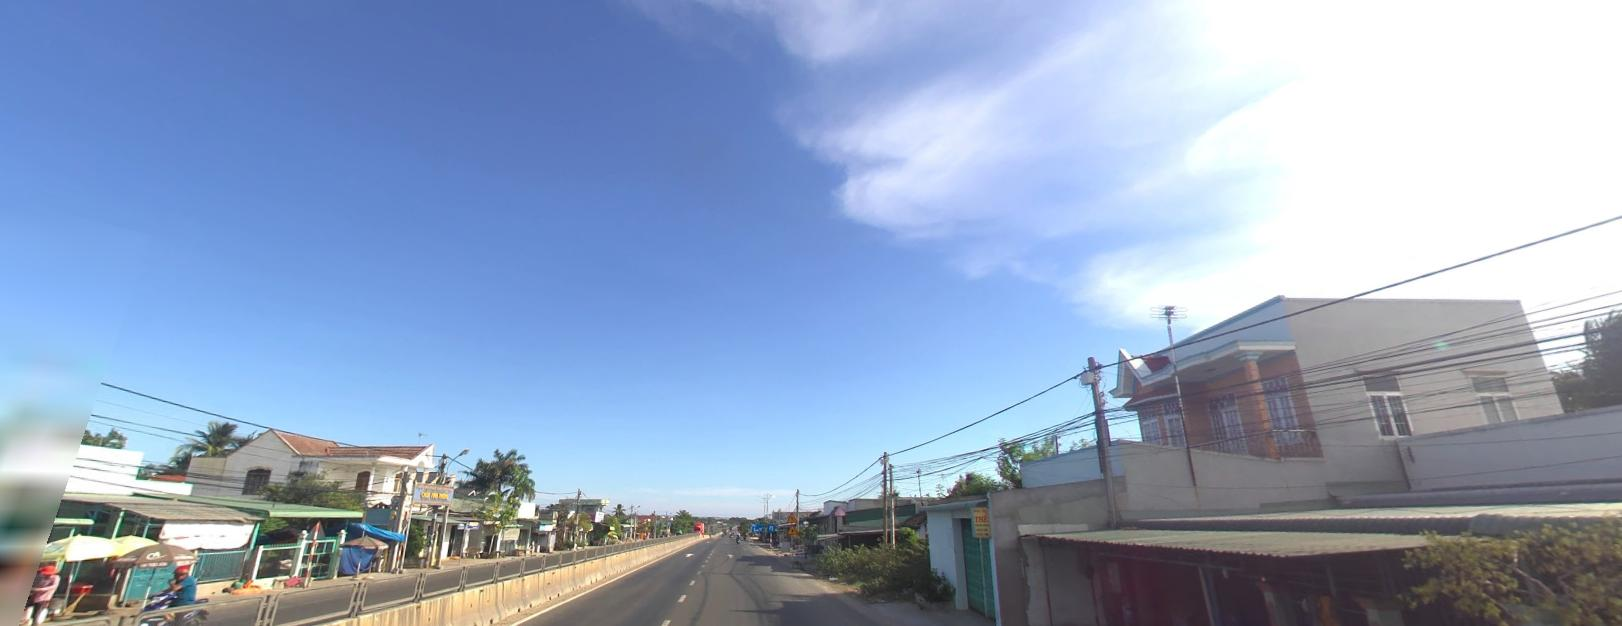Nguy hiem: (786, 524, 798, 534), (786, 512, 798, 521)
